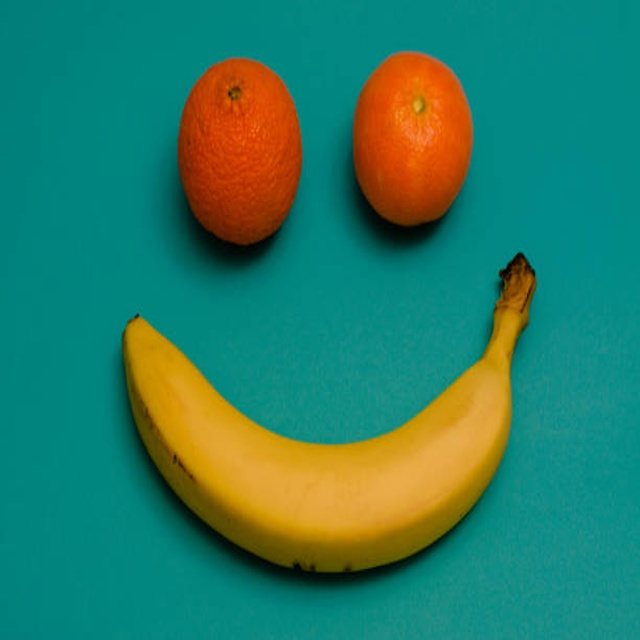banana: (99, 255, 577, 581)
orange: (171, 49, 314, 249), (349, 49, 486, 234)
